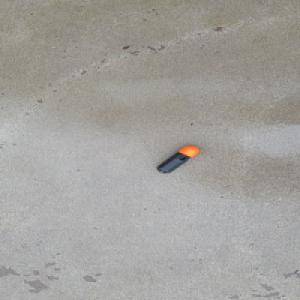PlasticPart: (155, 145, 200, 173)
